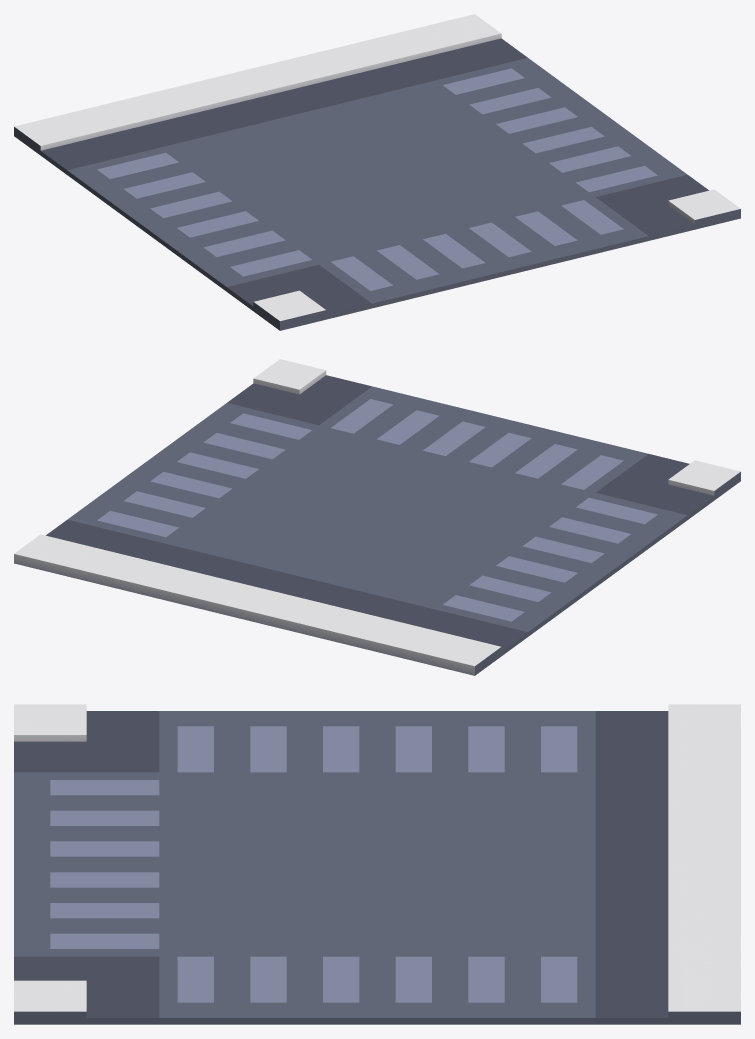
Rendered from road-intersection-path.glb.
The picture shows the model from 3 angles, top to bottom: view 1: azimuth 30°, elevation 25°; view 2: azimuth 150°, elevation 25°; view 3: azimuth 270°, elevation 25°; orthographic projection. The views are drawn at different scales.
Parts seen in each view (by area): view 1: road-intersection-path; view 2: road-intersection-path; view 3: road-intersection-path.
Part boxes in pixels (x1=…): road-intersection-path: x1=14, y1=14, x2=740, y2=330; road-intersection-path: x1=14, y1=359, x2=740, y2=675; road-intersection-path: x1=14, y1=704, x2=740, y2=1024.
Bounding box in the file's own units: 1 × 0.02 × 1.
1 material, 1 textured.
